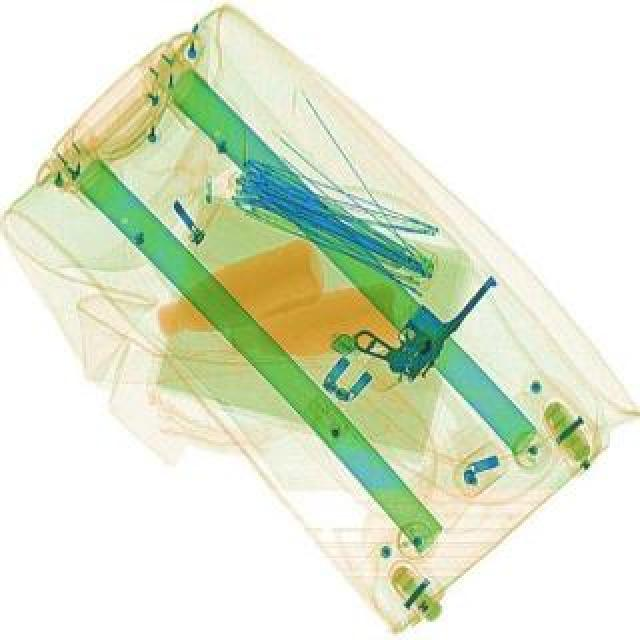gun: (348, 236, 504, 388)
